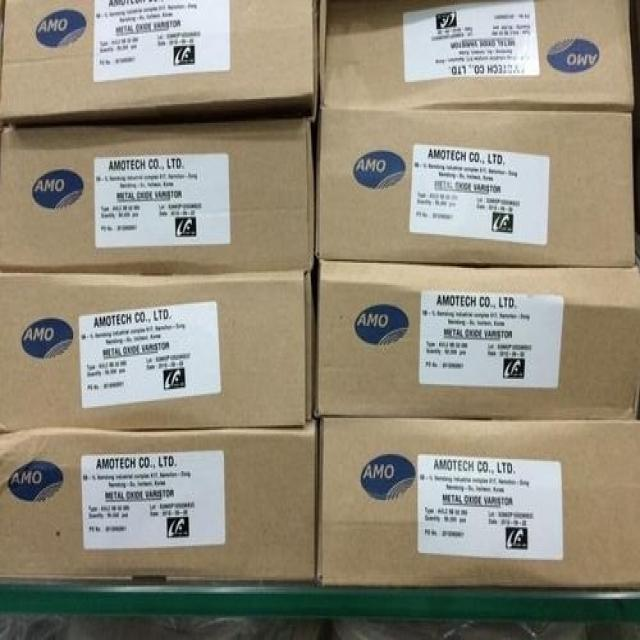box: (316, 418, 640, 591), (315, 253, 640, 420), (0, 420, 319, 585), (315, 108, 635, 268), (0, 271, 316, 432), (0, 116, 315, 275), (319, 0, 635, 113)
